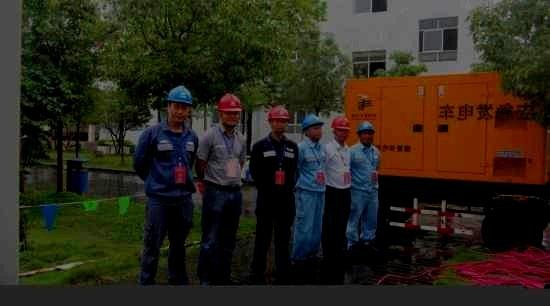helmet: (166, 85, 192, 122), (217, 93, 243, 127), (266, 105, 290, 135), (300, 113, 324, 142), (329, 116, 351, 143), (356, 120, 376, 146)
